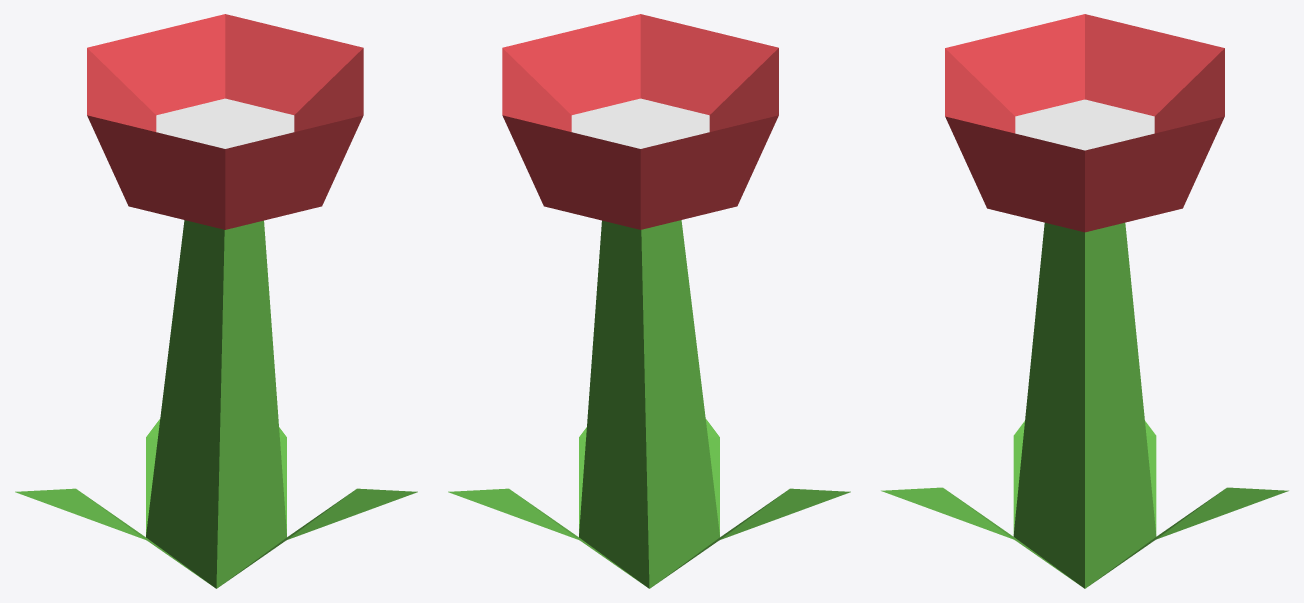
File: flower_redC.glb
3 views of the same model, side by side, from view 1: azimuth 30°, elevation 25°; view 2: azimuth 150°, elevation 25°; view 3: azimuth 270°, elevation 25° (orthographic).
Visible parts, largest first — view 1: flower_redC; view 2: flower_redC; view 3: flower_redC.
Part boxes in pixels (x1,y1,x2,y2): flower_redC: [15, 14, 417, 588]; flower_redC: [448, 14, 850, 588]; flower_redC: [881, 14, 1288, 588].
Bounding box in the file's own units: 0.1806 × 0.2325 × 0.1811.
